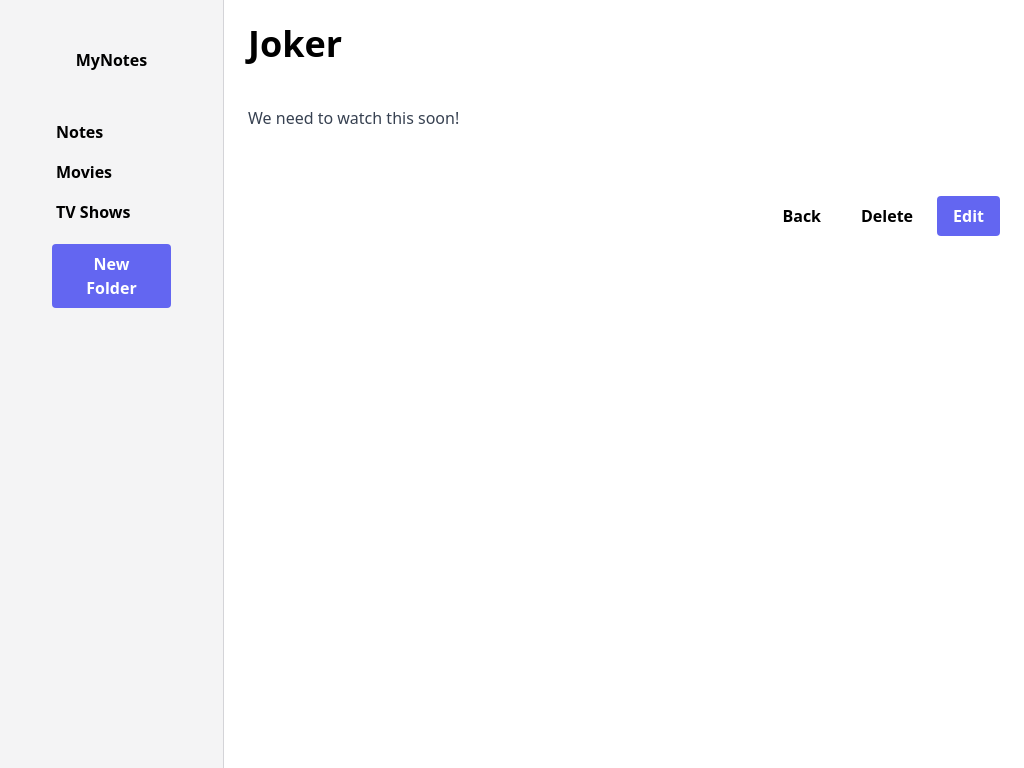
Scenario: should delete the note, when the delete button is clicked
Click the button "Delete". click: (887, 216)
box: [845,196,929,236]
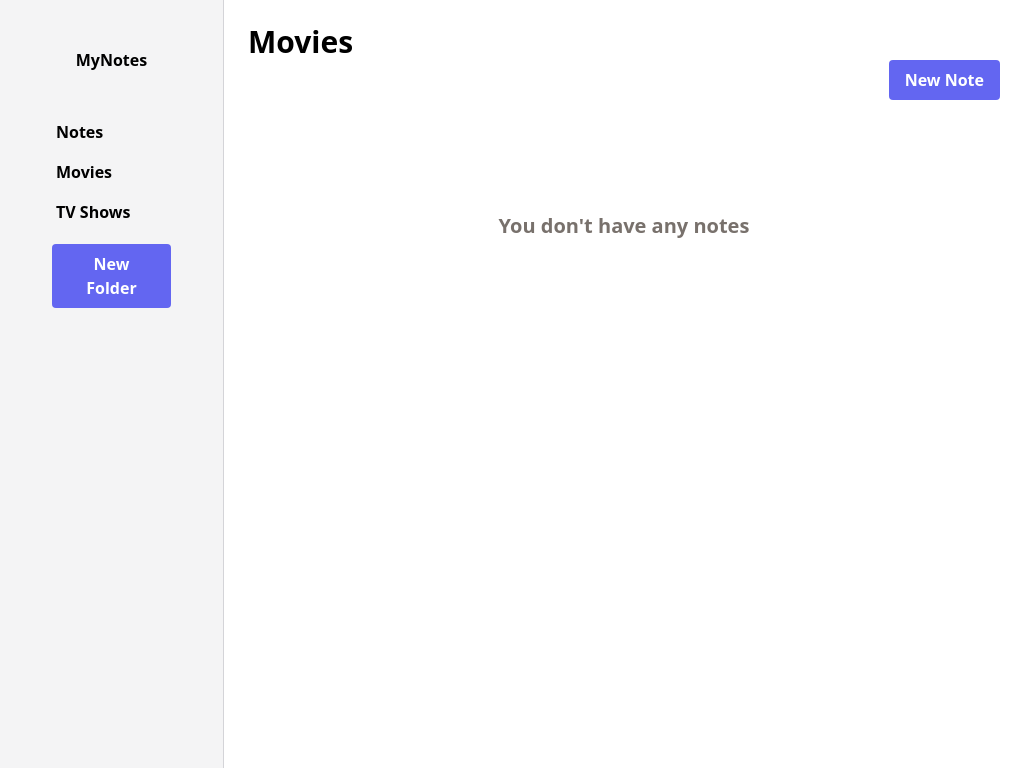
Expected: the link "New Note" is shown, [889,60,1000,100]
Expected: the heading "Joker" is gone
